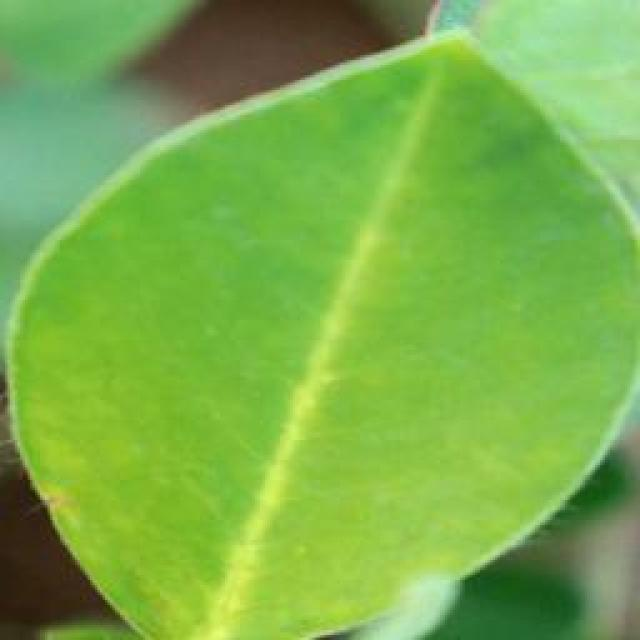Yellow_and_black_sigatoka: (0, 29, 636, 640)
